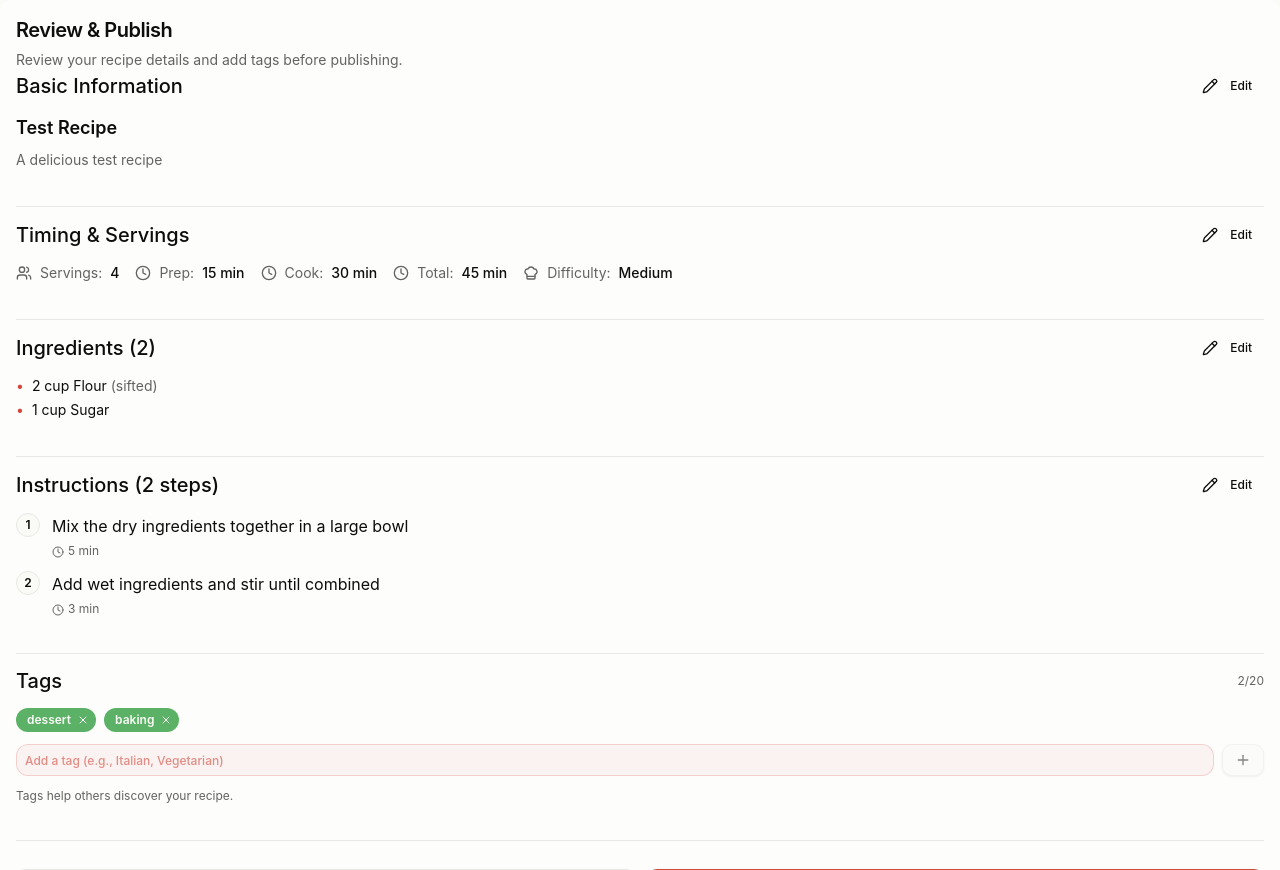
Test: ReviewStep › Tags management › should add new tag when add button is clicked
Type "vegetarian" into the field with placeholder "Add a tag (e.g., Italian, Vegetarian)" at (615, 760), box [16,744,1214,776]
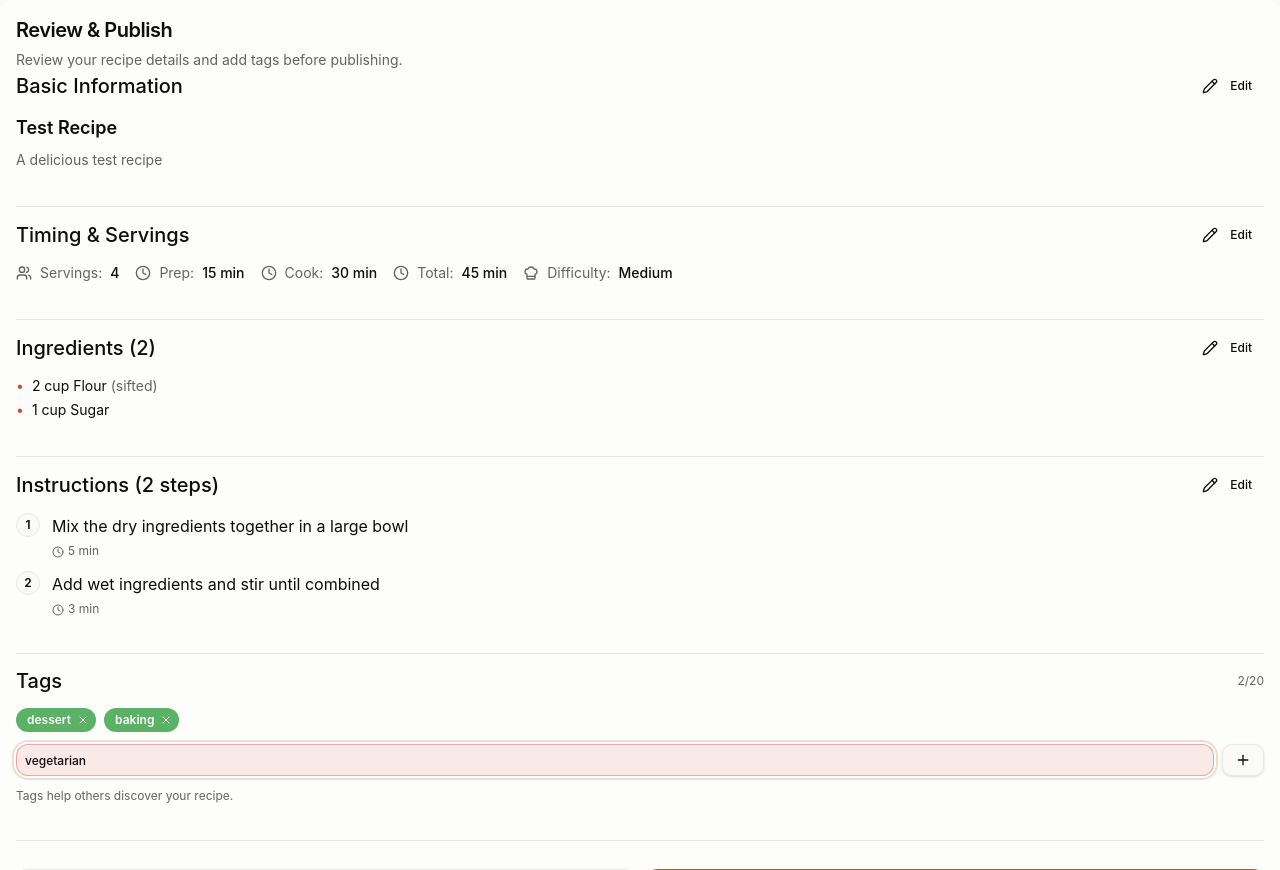
Click the button named "Add tag" at (1243, 760), box [1222,744,1264,776]
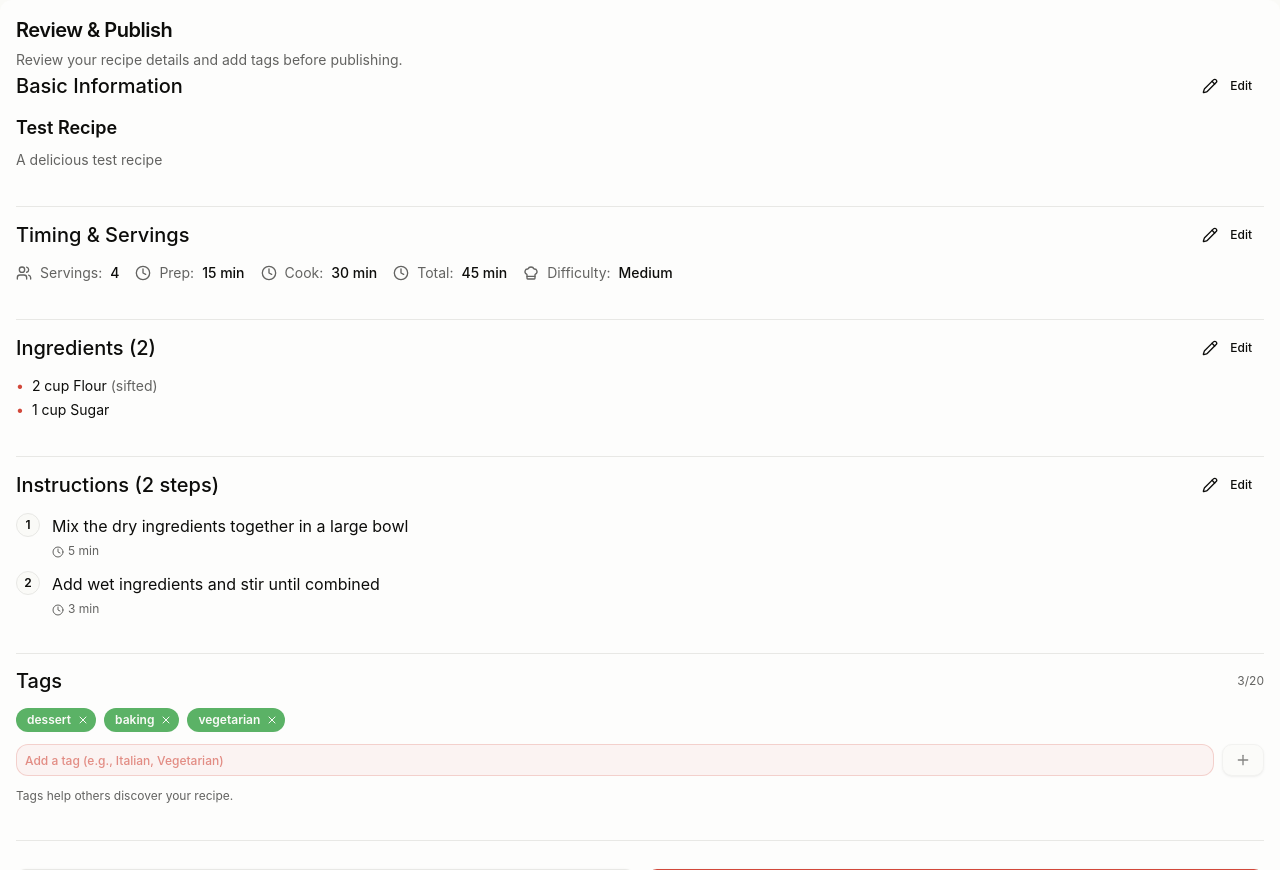
Expected: the text "vegetarian" is shown, [187,708,285,732]
